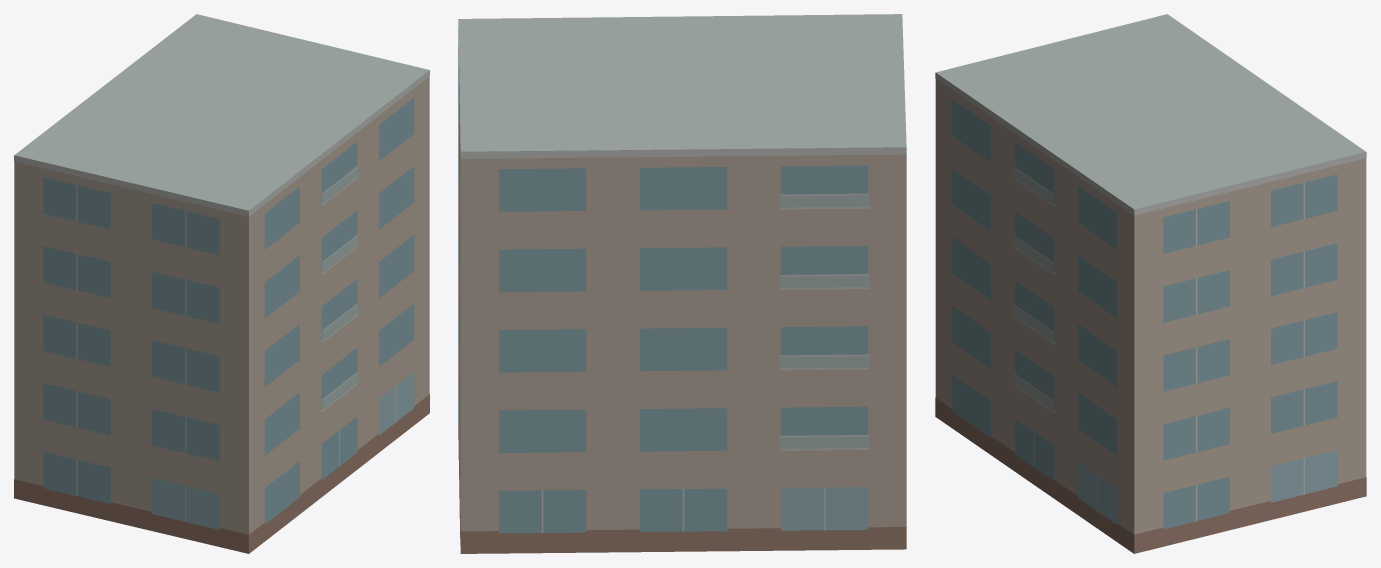
File: survey-upis-32768935.glb
3 views of the same model, side by side, from view 1: azimuth 30°, elevation 25°; view 2: azimuth 150°, elevation 25°; view 3: azimuth 270°, elevation 25° (orthographic). The views are drawn at different scales.
Visible parts, largest first — view 1: survey-upis-32768935.tmp; view 2: survey-upis-32768935.tmp; view 3: survey-upis-32768935.tmp.
Part boxes in pixels (left/top/right/bottom): survey-upis-32768935.tmp: left=14, top=14, right=429, bottom=553; survey-upis-32768935.tmp: left=458, top=14, right=906, bottom=553; survey-upis-32768935.tmp: left=935, top=14, right=1366, bottom=553.
Size of the model in its own units: 16.56 by 13.6 by 15.43.
